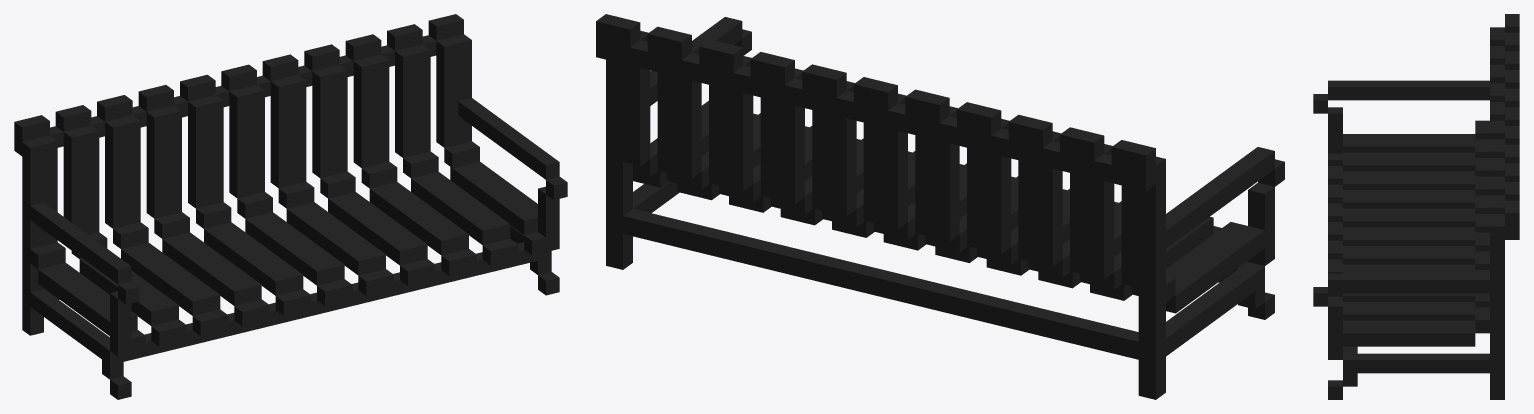
Rendered from Park_Set-9.obj.
The picture shows the model from 3 angles, left to right: view 1: azimuth 30°, elevation 25°; view 2: azimuth 150°, elevation 25°; view 3: azimuth 270°, elevation 25°; orthographic projection. The views are drawn at different scales.
Size of the model in its own units: 3.2 by 1.4 by 1.4.
Materials: 1 (1 with a texture image).
